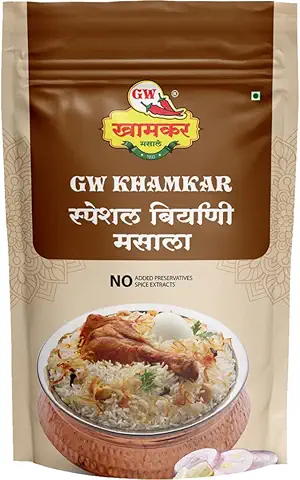Biryani: (6, 6, 297, 476)
